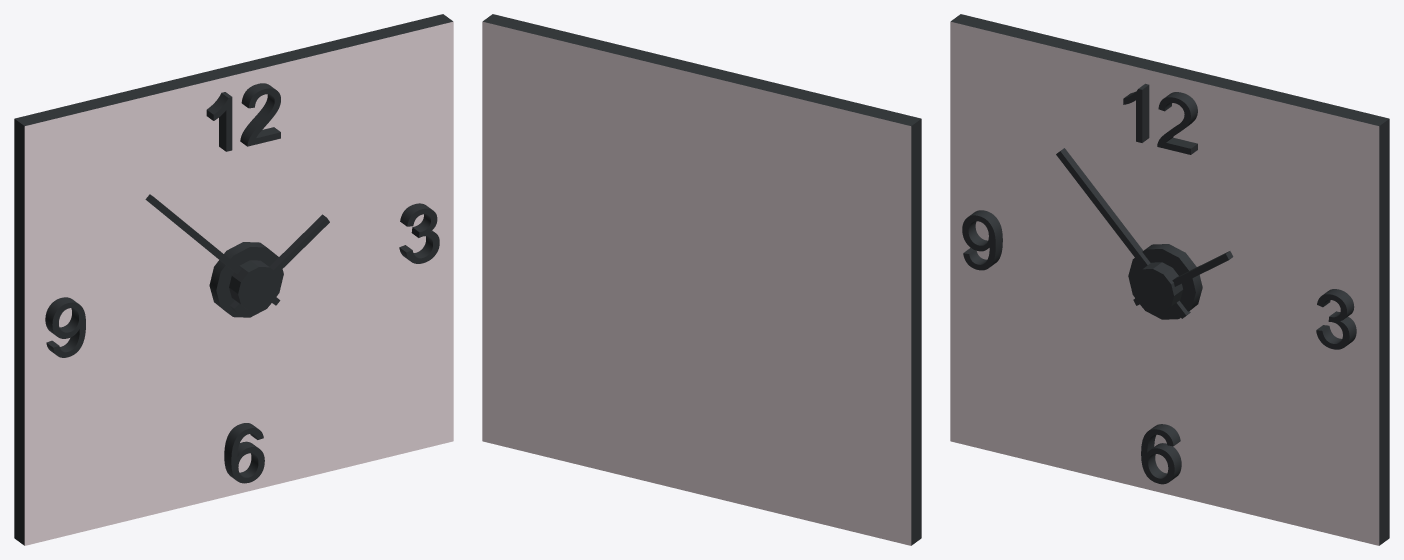
Rendered from SM_clock.fbx.
The picture shows the model from 3 angles, left to right: view 1: azimuth 30°, elevation 25°; view 2: azimuth 150°, elevation 25°; view 3: azimuth 330°, elevation 25°; orthographic projection.
Visible parts, largest first — view 1: clock; view 2: clock; view 3: clock.
Boxes of the visible parts, x1=… form: clock: x1=14, y1=14, x2=453, y2=545; clock: x1=482, y1=14, x2=921, y2=545; clock: x1=950, y1=14, x2=1389, y2=545.
Size of the model in its own units: 88.73 by 83 by 9.44.
